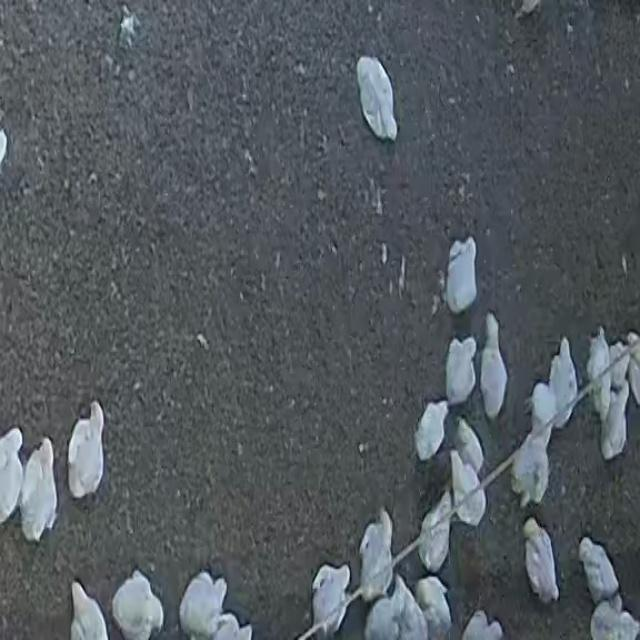chicken: (356, 53, 400, 146), (67, 400, 107, 499), (175, 567, 231, 637), (21, 439, 59, 541), (111, 570, 163, 640), (521, 518, 560, 604), (510, 428, 551, 508), (357, 514, 394, 602), (480, 311, 510, 419), (310, 562, 352, 636), (578, 536, 622, 606), (445, 235, 479, 314), (450, 449, 484, 526), (444, 336, 478, 410), (418, 498, 451, 573), (549, 338, 578, 421), (585, 329, 611, 416), (602, 384, 630, 460), (418, 402, 450, 457)
